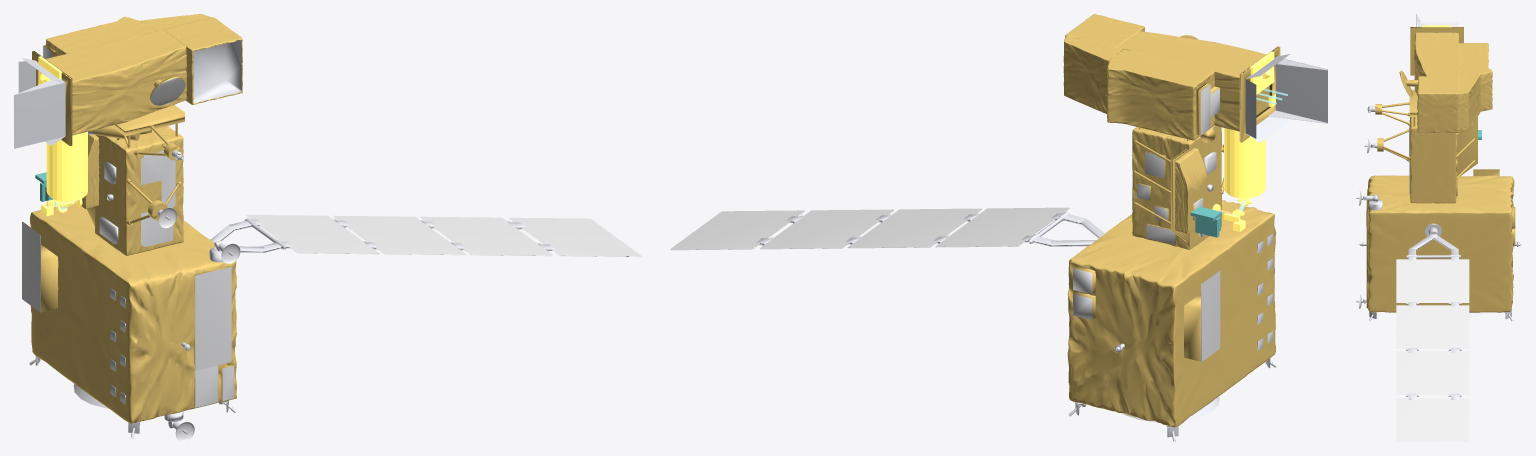
File: landsat7.glb
3 views of the same model, side by side, from view 1: azimuth 30°, elevation 25°; view 2: azimuth 150°, elevation 25°; view 3: azimuth 270°, elevation 25° (orthographic). The views are drawn at different scales.
Parts seen in each view (by area): view 1: Bus_Gold_MLI, External_Hardware, ETM_Housing, Solar_Array, ETM_Optics; view 2: Bus_Gold_MLI, ETM_Housing, Solar_Array, External_Hardware, ETM_Optics, ETM_Cooler; view 3: Bus_Gold_MLI, Solar_Array, ETM_Housing, External_Hardware.
Boxes of the visible parts, <box> form: Bus_Gold_MLI: <box>29,126,236,423</box>; External_Hardware: <box>14,44,240,441</box>; ETM_Housing: <box>46,14,242,136</box>; Solar_Array: <box>210,215,641,257</box>; ETM_Optics: <box>38,56,87,216</box>; Bus_Gold_MLI: <box>1067,125,1276,427</box>; ETM_Housing: <box>1063,14,1266,140</box>; Solar_Array: <box>670,207,1104,250</box>; External_Hardware: <box>1068,35,1327,441</box>; ETM_Optics: <box>1212,51,1275,231</box>; ETM_Cooler: <box>1190,206,1221,237</box>; Bus_Gold_MLI: <box>1366,117,1514,312</box>; Solar_Array: <box>1396,223,1469,441</box>; ETM_Housing: <box>1409,32,1492,132</box>; External_Hardware: <box>1356,14,1521,321</box>.
Size of the model in its own units: 1.26 by 0.6984 by 0.4112.
